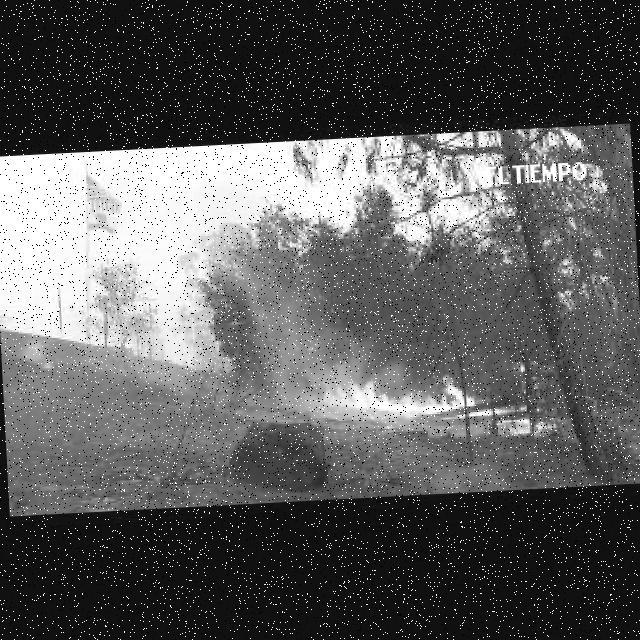Fire: (303, 365, 505, 425), (498, 418, 555, 435)
